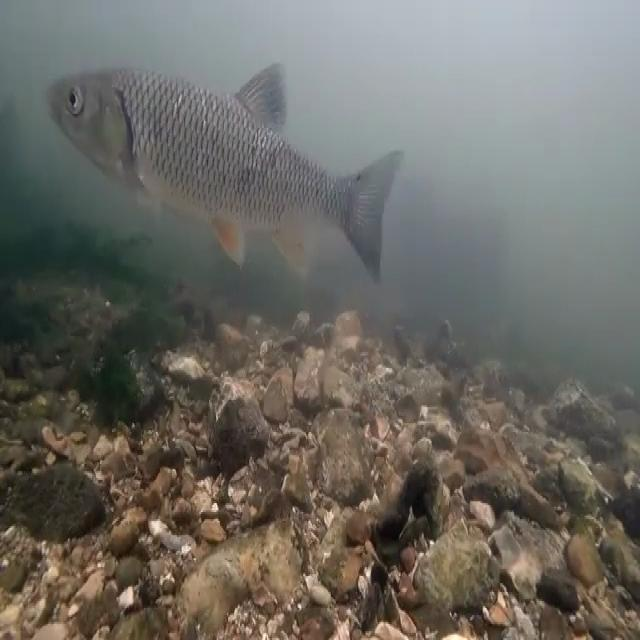Cakil Baligi: (46, 56, 406, 297)
